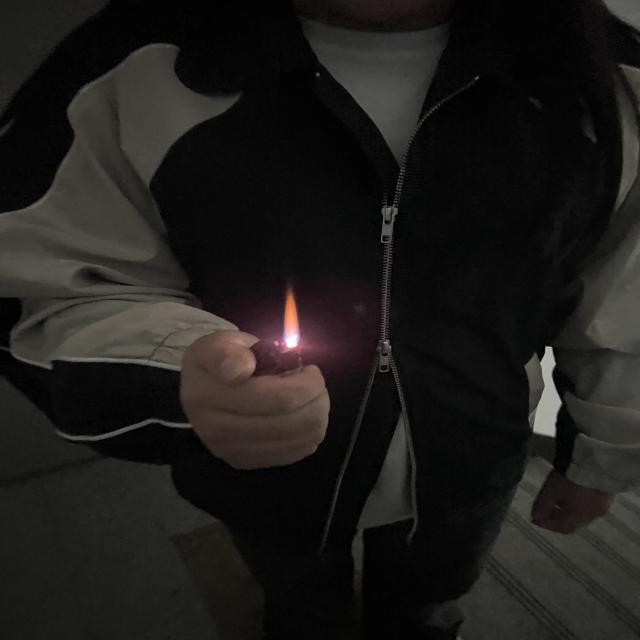fire: (281, 282, 305, 350)
